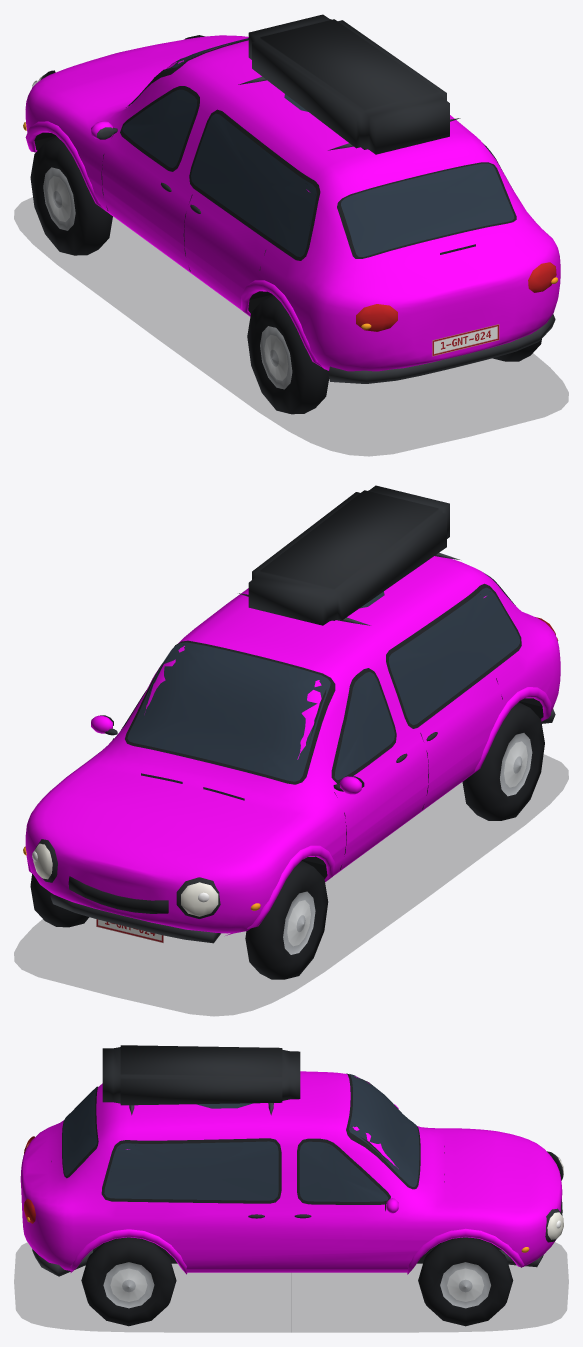
File: car-suv.obj
3 renders of one model, top to bottom at view 1: azimuth 30°, elevation 25°; view 2: azimuth 150°, elevation 25°; view 3: azimuth 270°, elevation 25°, orthographic. The views are drawn at different scales.
Parts seen in each view (by area): view 1: body.rl, shadowpad.nocast, body.fl, opt.roofbox.nocast, body.rr, glass.backlight.nocast, glass.win_rear.-1.nocast, wheel.RL, wheel.FL, glass.win_front.-1.nocast, trim.bumper_rear, glass.frame.win_rear.-1.nocast (+8 smaller); view 2: body.fl, shadowpad.nocast, body.rl, body.fr, glass.windshield.nocast, opt.roofbox.nocast, glass.win_rear.-1.nocast, wheel.FL, wheel.RL, glass.win_front.-1.nocast, glass.frame.windshield.nocast, trim.bumper_front (+8 smaller); view 3: shadowpad.nocast, body.fr, body.rr, opt.roofbox.nocast, glass.win_rear.1.nocast, wheel.RR, wheel.FR, body.fl, glass.windshield.nocast, glass.win_front.1.nocast, glass.backlight.nocast, glass.frame.win_rear.1.nocast (+6 smaller).
Boxes of the visible parts, left/top/right/bottom form: body.rl: left=87, top=64, right=465, bottom=371; shadowpad.nocast: left=14, top=197, right=568, bottom=456; body.fl: left=25, top=40, right=251, bottom=310; opt.roofbox.nocast: left=248, top=14, right=449, bottom=154; body.rr: left=402, top=115, right=560, bottom=354; glass.backlight.nocast: left=341, top=163, right=514, bottom=256; glass.win_rear.-1.nocast: left=191, top=113, right=316, bottom=257; wheel.RL: left=247, top=295, right=329, bottom=414; wheel.FL: left=30, top=136, right=112, bottom=255; glass.win_front.-1.nocast: left=122, top=89, right=197, bottom=167; trim.bumper_rear: left=328, top=314, right=555, bottom=383; glass.frame.win_rear.-1.nocast: left=189, top=109, right=320, bottom=260; body.fl: left=117, top=629, right=487, bottom=933; shadowpad.nocast: left=14, top=754, right=568, bottom=1015; body.rl: left=283, top=556, right=560, bottom=857; body.fr: left=25, top=601, right=282, bottom=914; glass.windshield.nocast: left=127, top=642, right=330, bottom=781; opt.roofbox.nocast: left=248, top=485, right=449, bottom=625; glass.win_rear.-1.nocast: left=389, top=587, right=519, bottom=724; wheel.FL: left=245, top=861, right=328, bottom=979; wheel.RL: left=462, top=702, right=544, bottom=820; glass.win_front.-1.nocast: left=334, top=672, right=394, bottom=779; glass.frame.windshield.nocast: left=125, top=640, right=335, bottom=784; trim.bumper_front: left=50, top=893, right=220, bottom=943; shadowpad.nocast: left=14, top=1242, right=568, bottom=1332; body.fr: left=176, top=1093, right=562, bottom=1272; body.rr: left=20, top=1093, right=419, bottom=1271; opt.roofbox.nocast: left=102, top=1045, right=300, bottom=1105; glass.win_rear.1.nocast: left=104, top=1141, right=278, bottom=1200; wheel.RR: left=81, top=1237, right=176, bottom=1326; wheel.FR: left=418, top=1237, right=513, bottom=1326; body.fl: left=305, top=1071, right=562, bottom=1189; glass.windshield.nocast: left=349, top=1074, right=419, bottom=1186; glass.win_front.1.nocast: left=299, top=1141, right=388, bottom=1201; glass.backlight.nocast: left=62, top=1087, right=97, bottom=1175; glass.frame.win_rear.1.nocast: left=101, top=1138, right=281, bottom=1203.
Size of the model in its own units: 2.08 by 2.12 by 4.78.
Materials: 16 (1 with a texture image).
